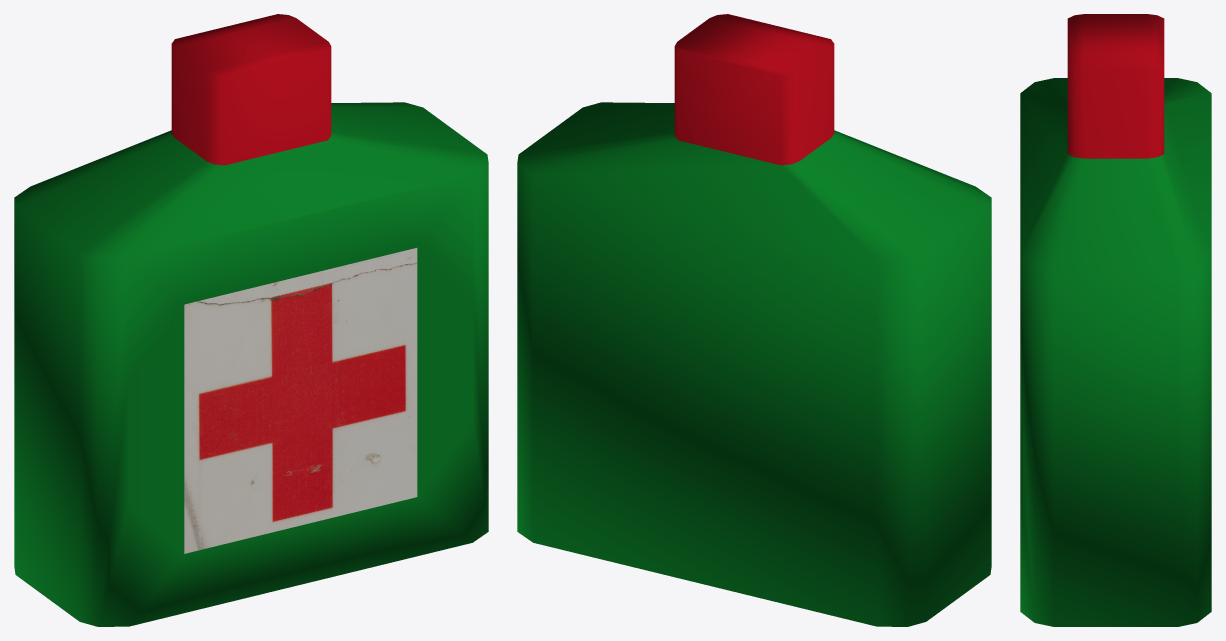
Rendered from FirstAid.fbx.
3 views of the same model, side by side, from view 1: azimuth 30°, elevation 25°; view 2: azimuth 150°, elevation 25°; view 3: azimuth 270°, elevation 25° (orthographic). The views are drawn at different scales.
Parts seen in each view (by area): view 1: Bottle; view 2: Bottle; view 3: Bottle.
Boxes of the visible parts, x1,y1,x2,y2 form: Bottle: (14,14,488,626); Bottle: (517,14,991,626); Bottle: (1020,14,1211,626).
Bounding box in the file's own units: 4.76 × 5.61 × 1.99.
